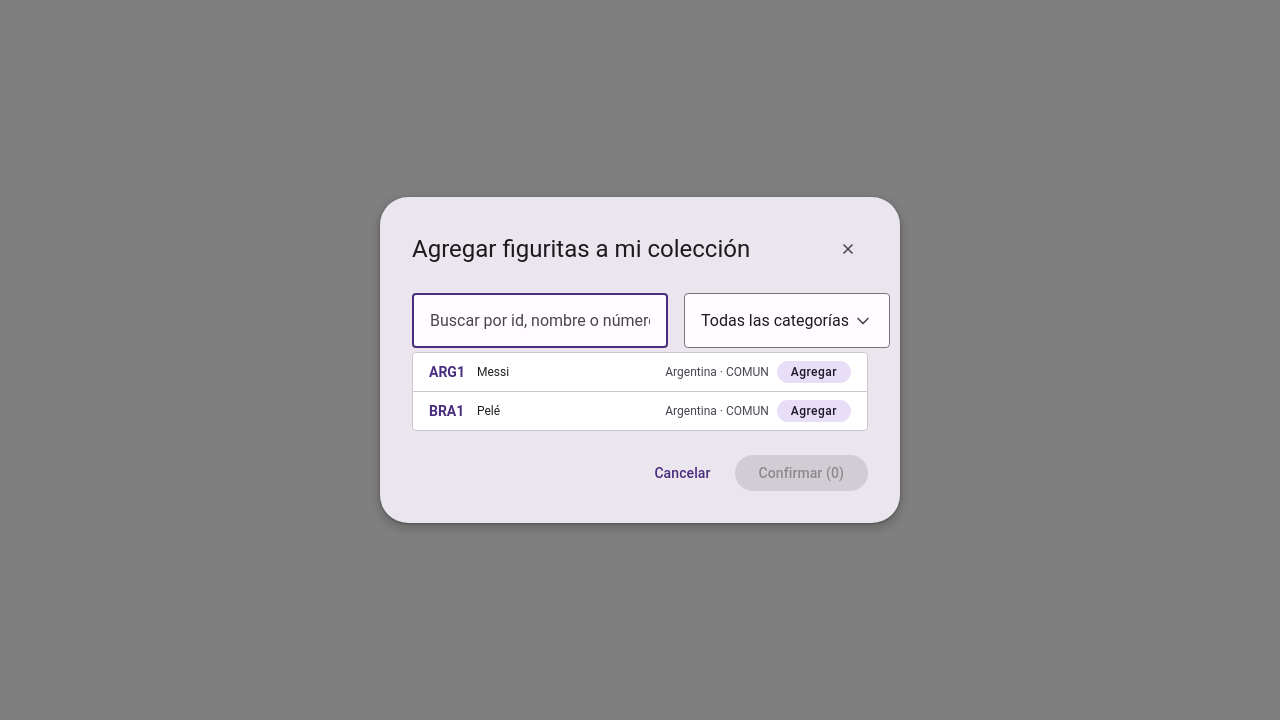
it: AddToCollectionModal — selección y cantidad › el + incrementa la cantidad y el total se refleja en el botón Confirmar
The width and height of the screenshot is (1280, 720).
Expected: the text "Messi" is shown, [477,365,509,379]
Click the button "Agregar" in the row of "Messi": point(814, 372) [777,361,851,383]
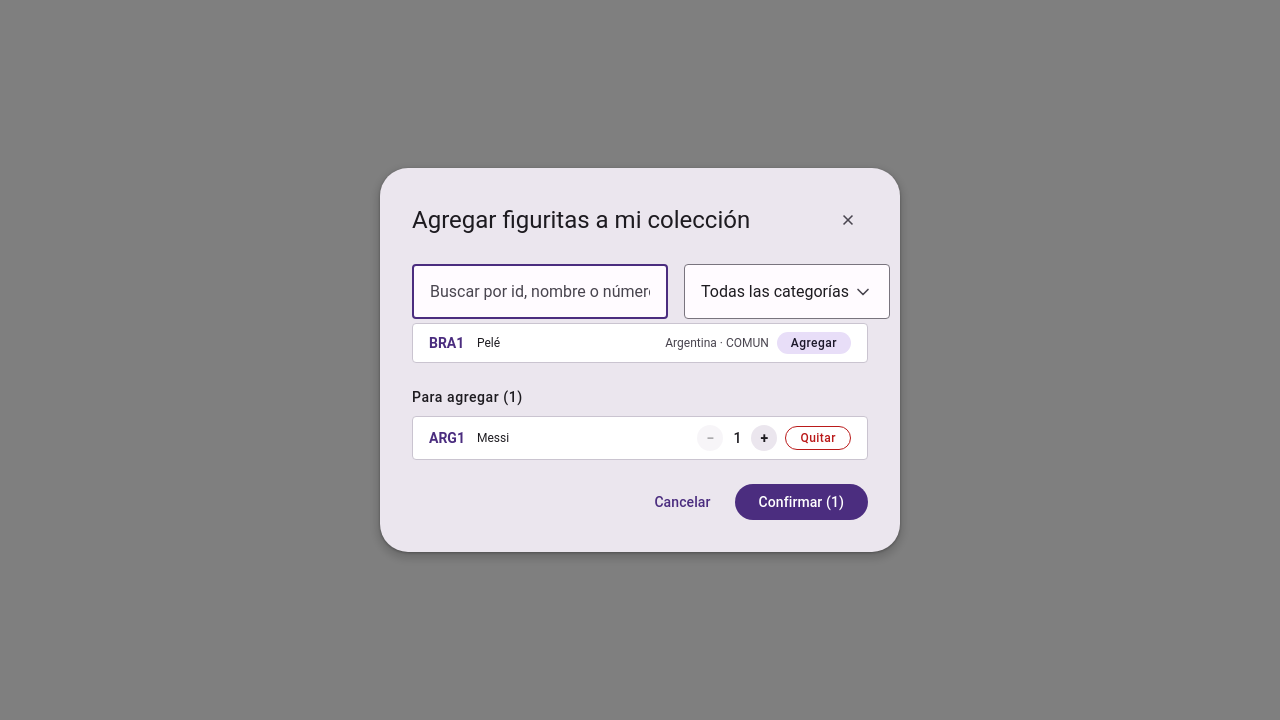
Now the button "Quitar" is shown, box [785,426,851,450]
Click the button named "Sumar una": point(764, 438) [751,425,777,451]
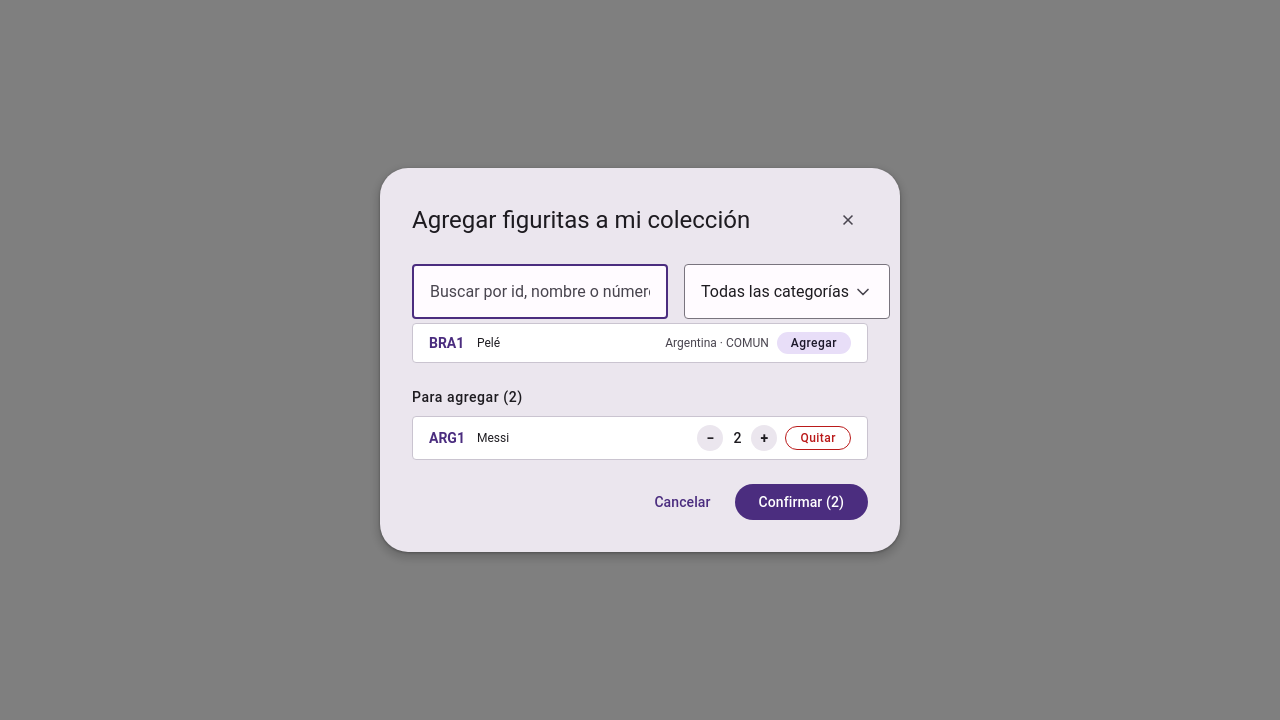
Click the button named "Sumar una": point(764, 438) [751,425,777,451]
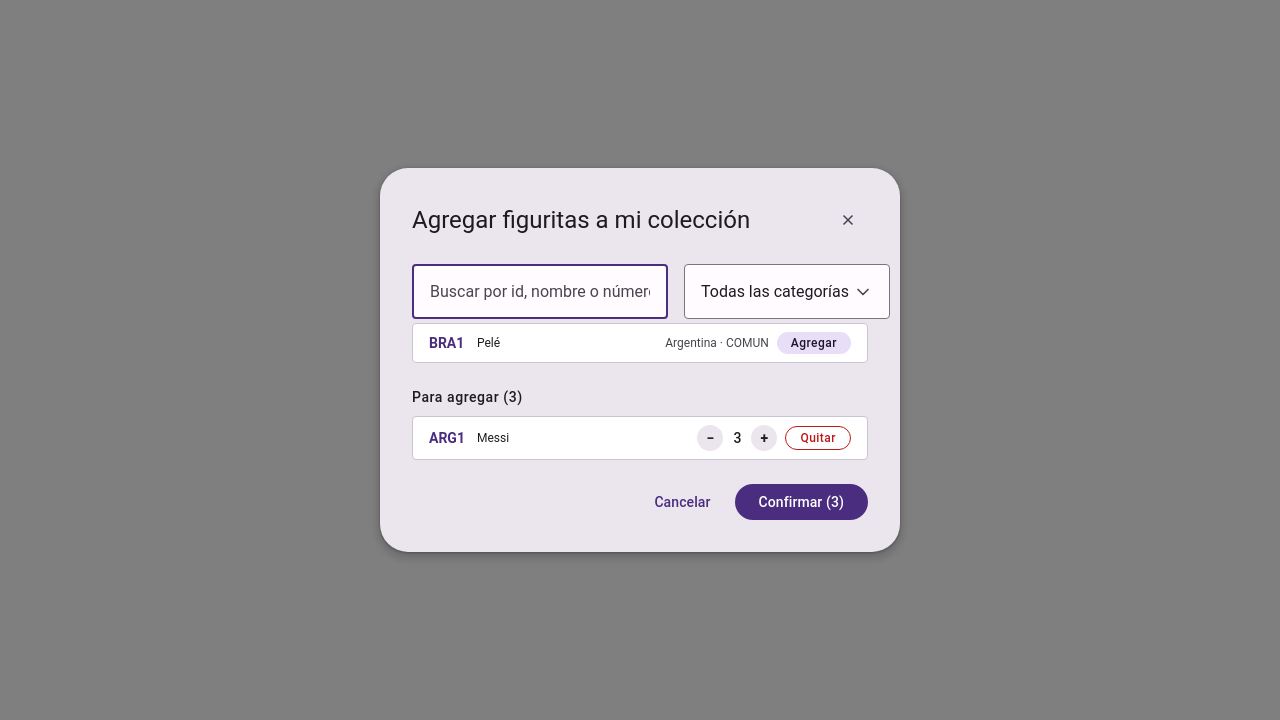
Now the text "Para agregar (3)" is shown, box [412,389,523,405]
Now the button "Confirmar (3)" is shown, box [734,484,868,520]
